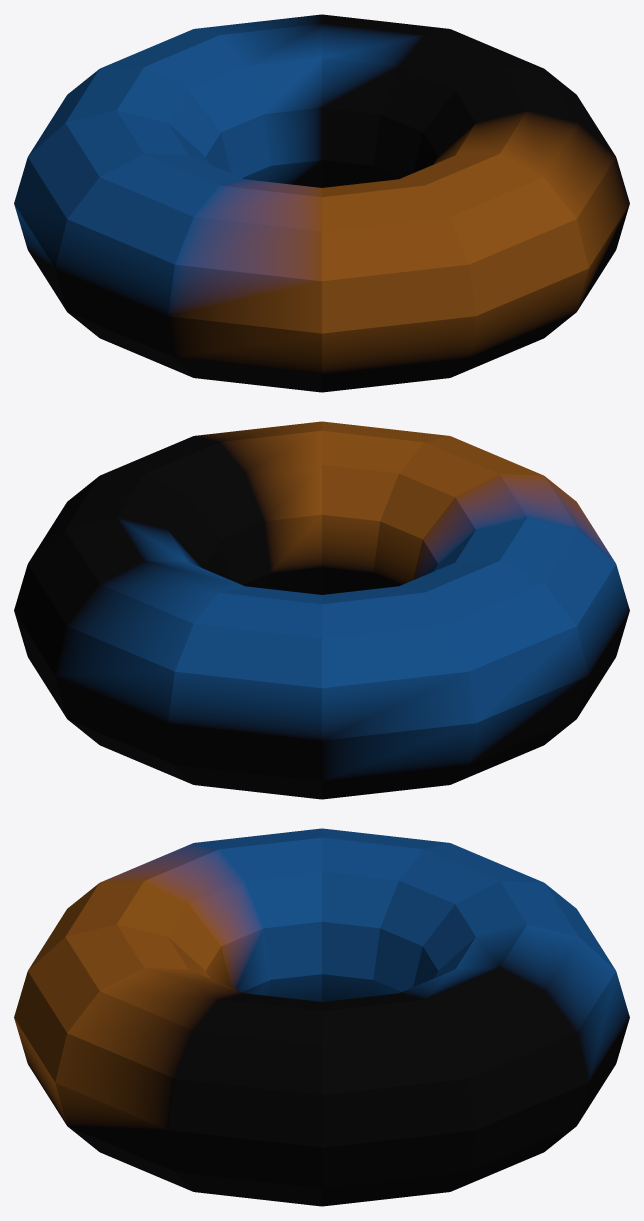
3 views of the same model, one above another, from view 1: azimuth 30°, elevation 25°; view 2: azimuth 150°, elevation 25°; view 3: azimuth 270°, elevation 25° (orthographic).
Parts seen in each view (by area): view 1: pTorus1; view 2: pTorus1; view 3: pTorus1.
Boxes of the visible parts, bbox=[...] form: pTorus1: bbox=[14, 14, 629, 392]; pTorus1: bbox=[14, 421, 629, 799]; pTorus1: bbox=[14, 828, 629, 1206].
Bounding box in the file's own units: 4.12 × 4.12 × 1.37.
